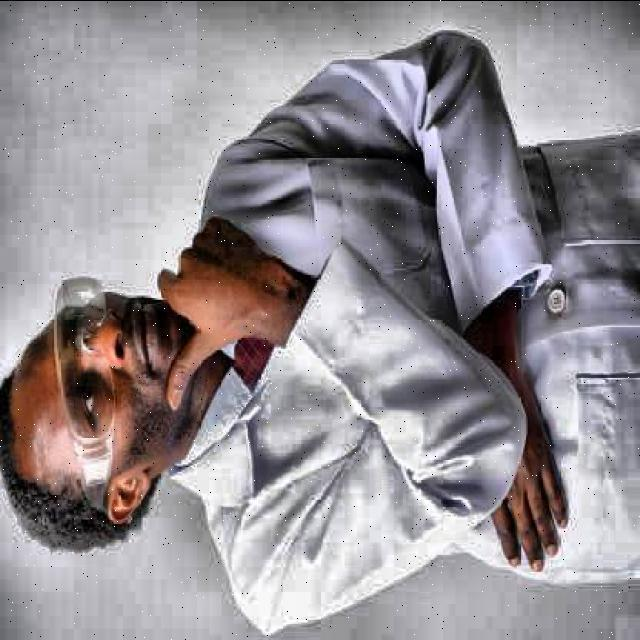Goggles: (42, 245, 131, 528)
